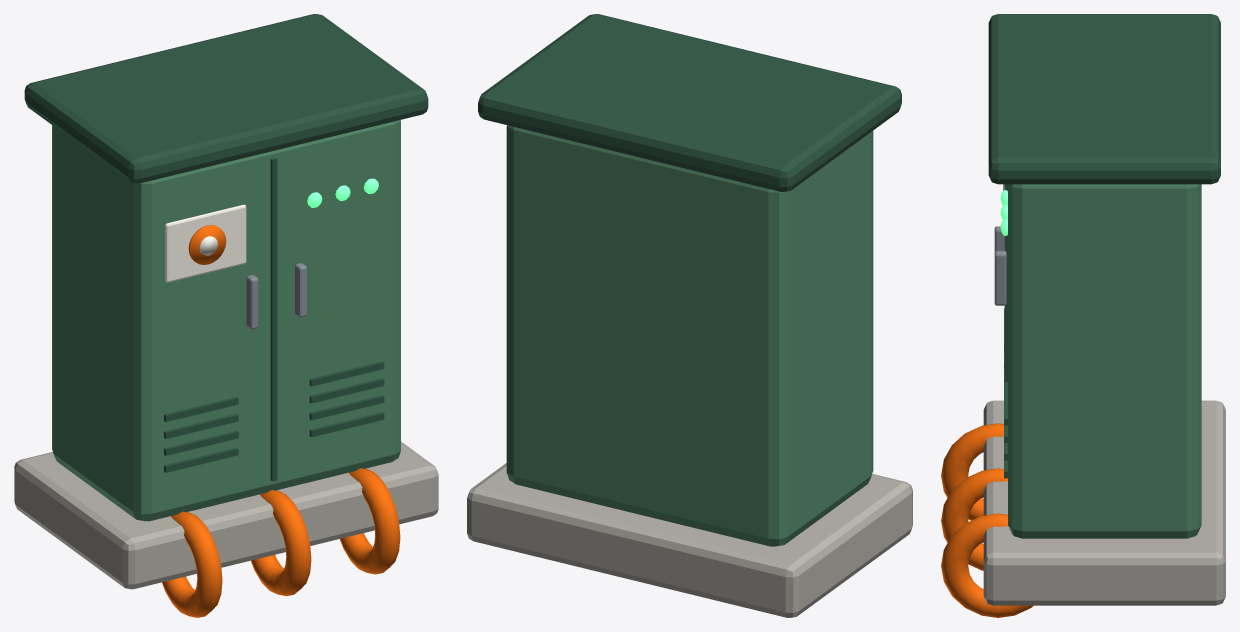
File: distributor.glb
3 views of the same model, side by side, from view 1: azimuth 30°, elevation 25°; view 2: azimuth 150°, elevation 25°; view 3: azimuth 270°, elevation 25° (orthographic). The views are drawn at different scales.
Visible parts, largest first — view 1: distributor; view 2: distributor; view 3: distributor.
Boxes of the visible parts, <box> form: distributor: <box>14,14,438,617</box>; distributor: <box>467,14,912,617</box>; distributor: <box>941,14,1225,617</box>.
Bounding box in the file's own units: 0.78 × 1.11 × 0.588.
